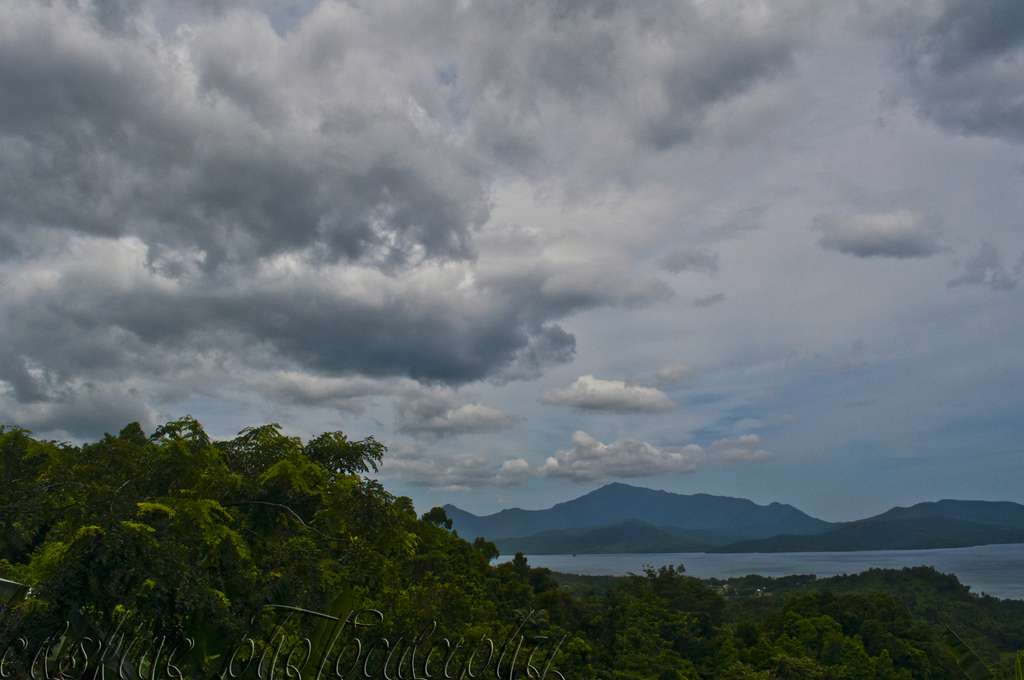Tree: (3, 423, 503, 679), (505, 560, 1022, 679)
